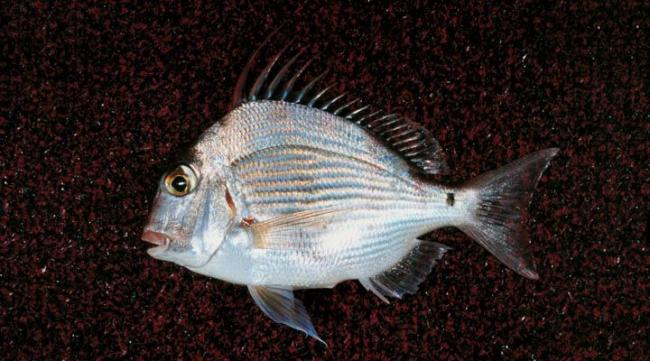fish: (143, 37, 559, 351)
